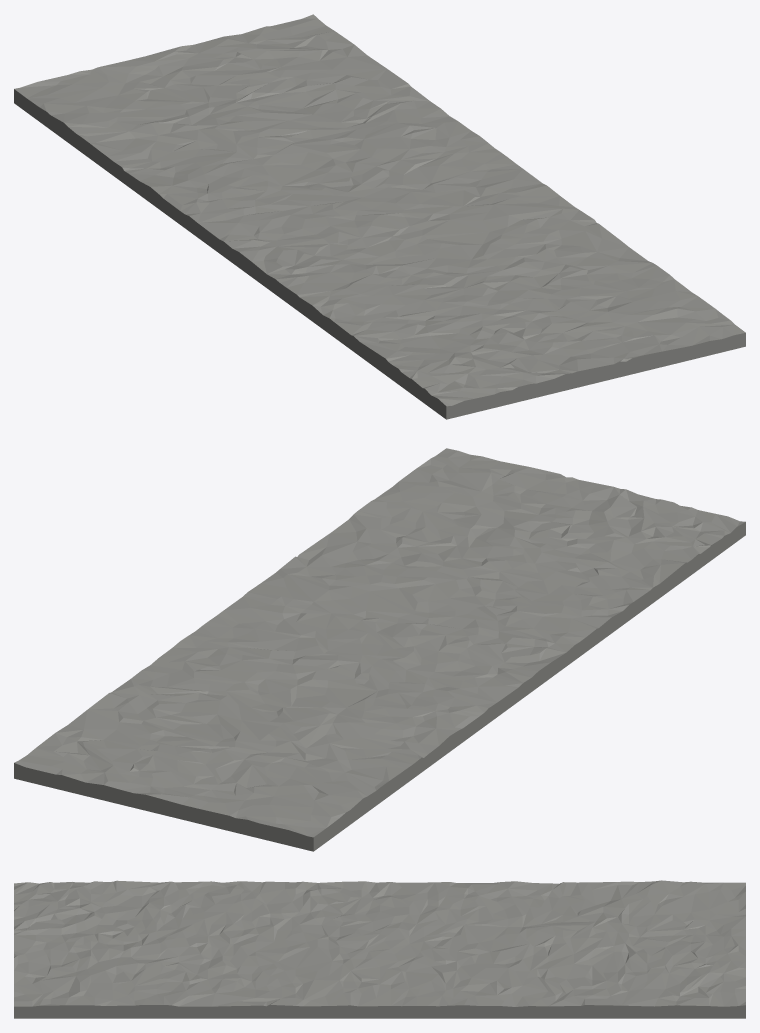
The model's file is Fondo Mar (Modelo).fbx.
3 renders of one model, top to bottom at view 1: azimuth 30°, elevation 25°; view 2: azimuth 150°, elevation 25°; view 3: azimuth 270°, elevation 25°, orthographic. The views are drawn at different scales.
Parts seen in each view (by area): view 1: Fondo_Mar; view 2: Fondo_Mar; view 3: Fondo_Mar.
Boxes of the visible parts, x1=… form: Fondo_Mar: x1=14, y1=14, x2=745, y2=419; Fondo_Mar: x1=14, y1=448, x2=745, y2=851; Fondo_Mar: x1=14, y1=880, x2=745, y2=1018.
Size of the model in its own units: 100 by 5.45 by 250.
